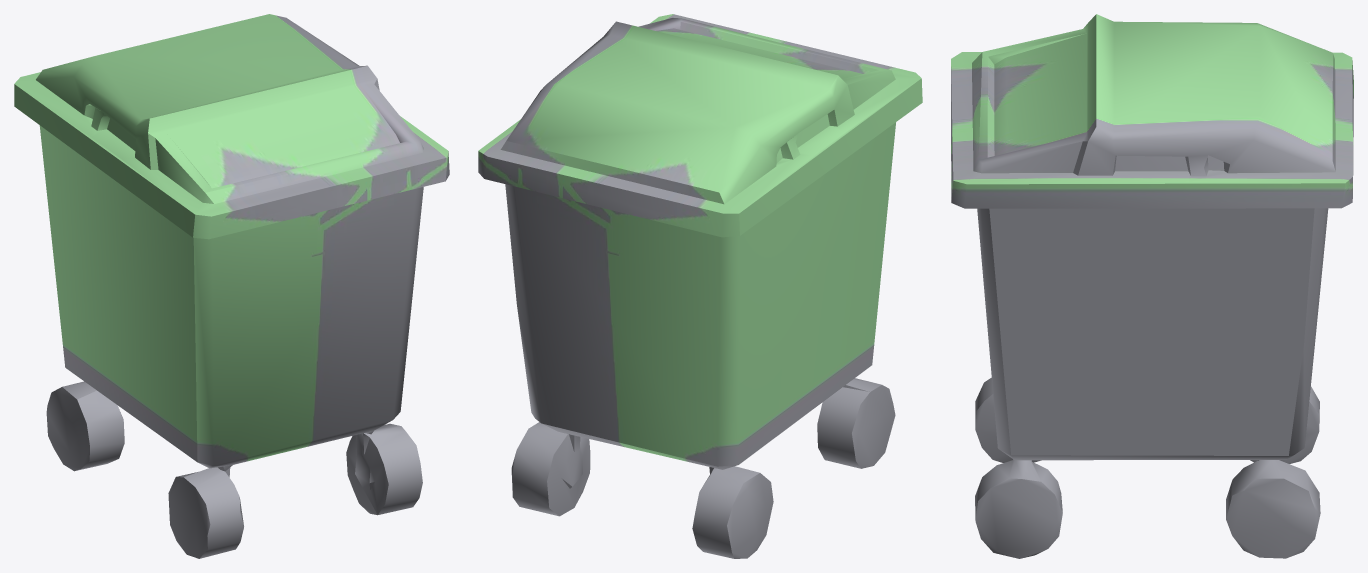
3 renders of one model, left to right at view 1: azimuth 30°, elevation 25°; view 2: azimuth 150°, elevation 25°; view 3: azimuth 270°, elevation 25°, orthographic. The views are drawn at different scales.
Parts seen in each view (by area): view 1: Decor_dumpster_c; view 2: Decor_dumpster_c; view 3: Decor_dumpster_c.
Boxes of the visible parts, x1,y1,x2,y2 form: Decor_dumpster_c: [14, 14, 449, 558]; Decor_dumpster_c: [478, 14, 922, 558]; Decor_dumpster_c: [951, 14, 1353, 558].
Bounding box in the file's own units: 0.8499 × 1.3 × 1.09.
Materials: 1 (1 with a texture image).
